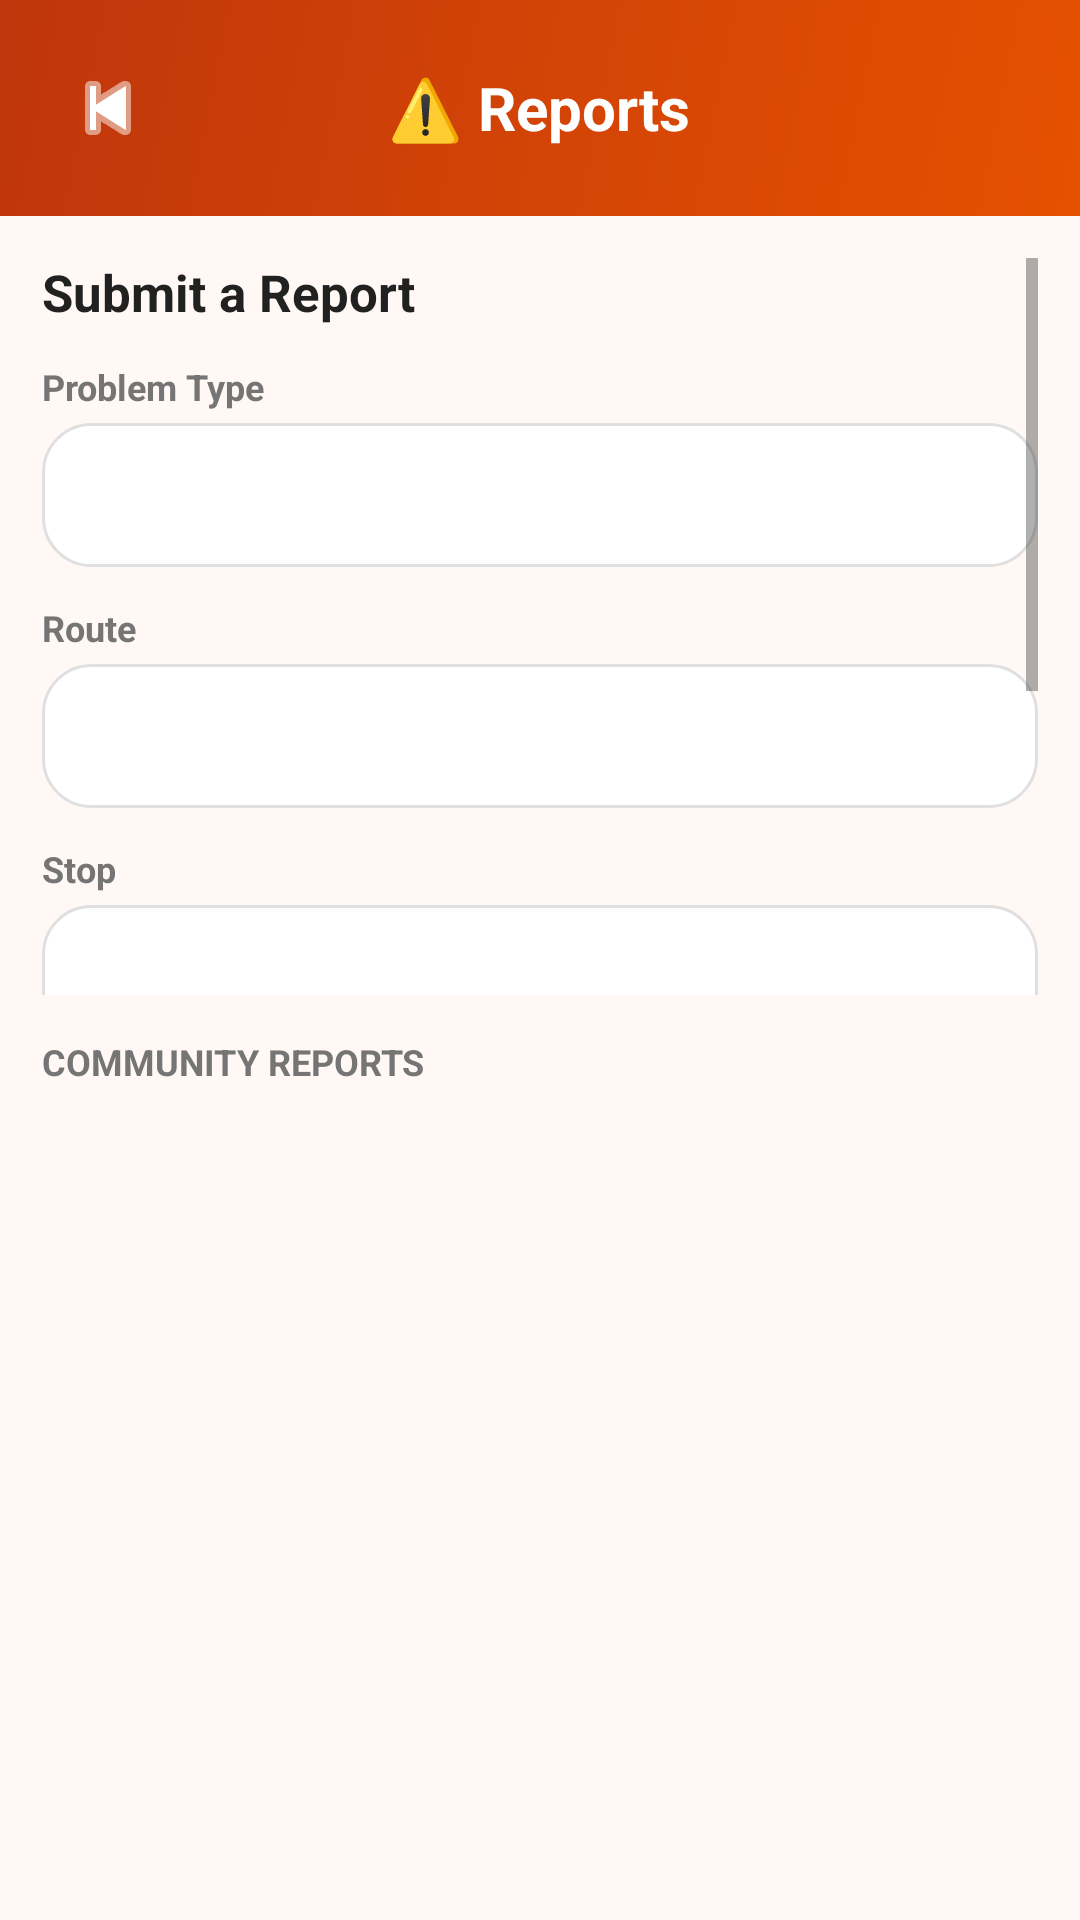

Icon click points for this 1080px×1920px phone screenshot, format (x=x, y=y):
Back: (x=108, y=108)
